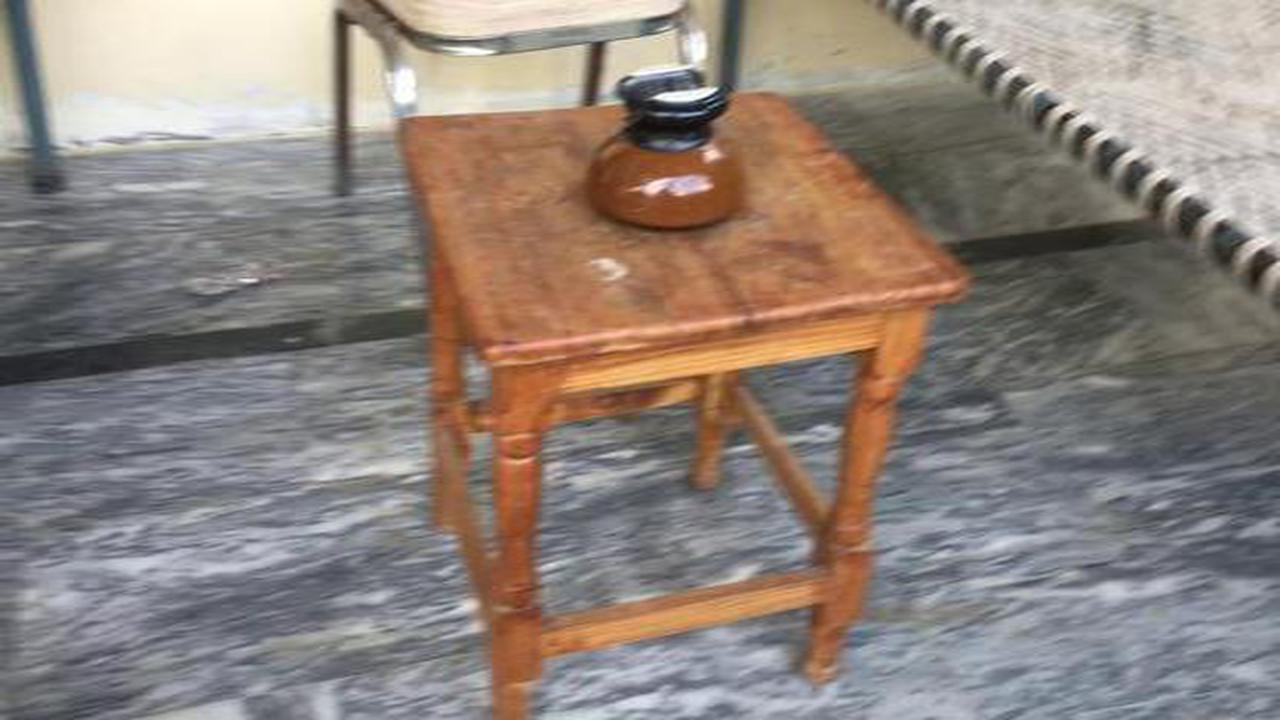insulator_pin: (561, 61, 761, 241)
